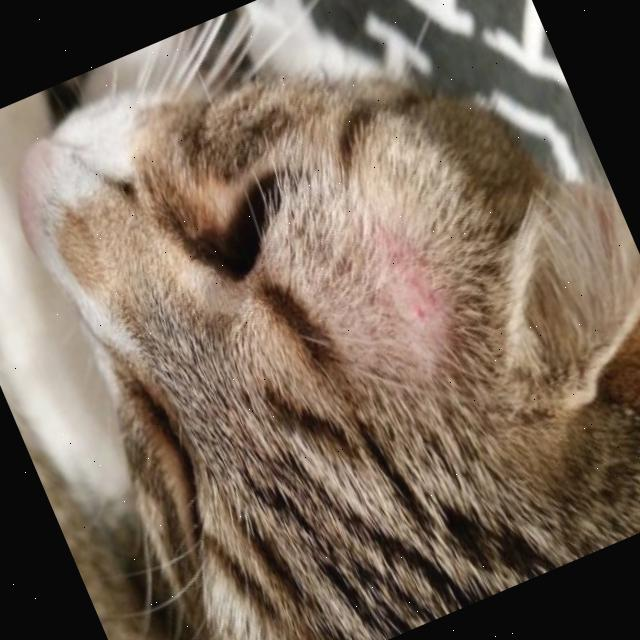cat-dermatitis: (381, 248, 466, 332)
